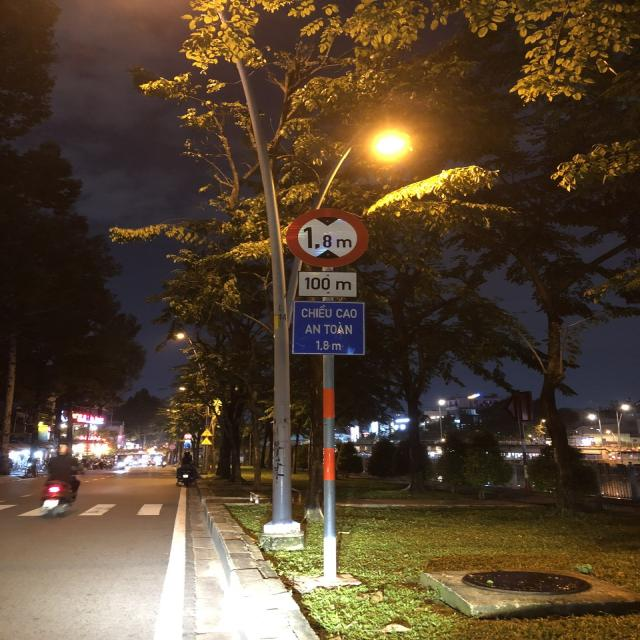Bien bao han che chieu cao: (280, 203, 376, 270)
